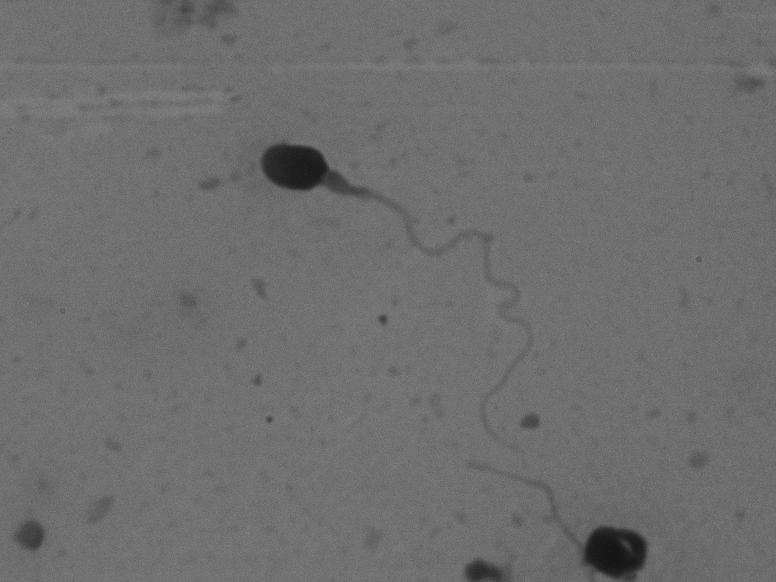Abnormal: (206, 91, 622, 474), (476, 466, 675, 578)
